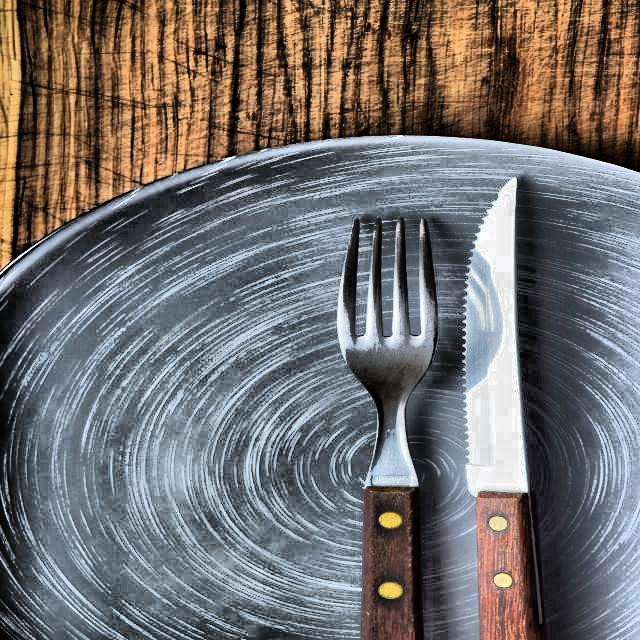knife: (458, 176, 532, 640)
